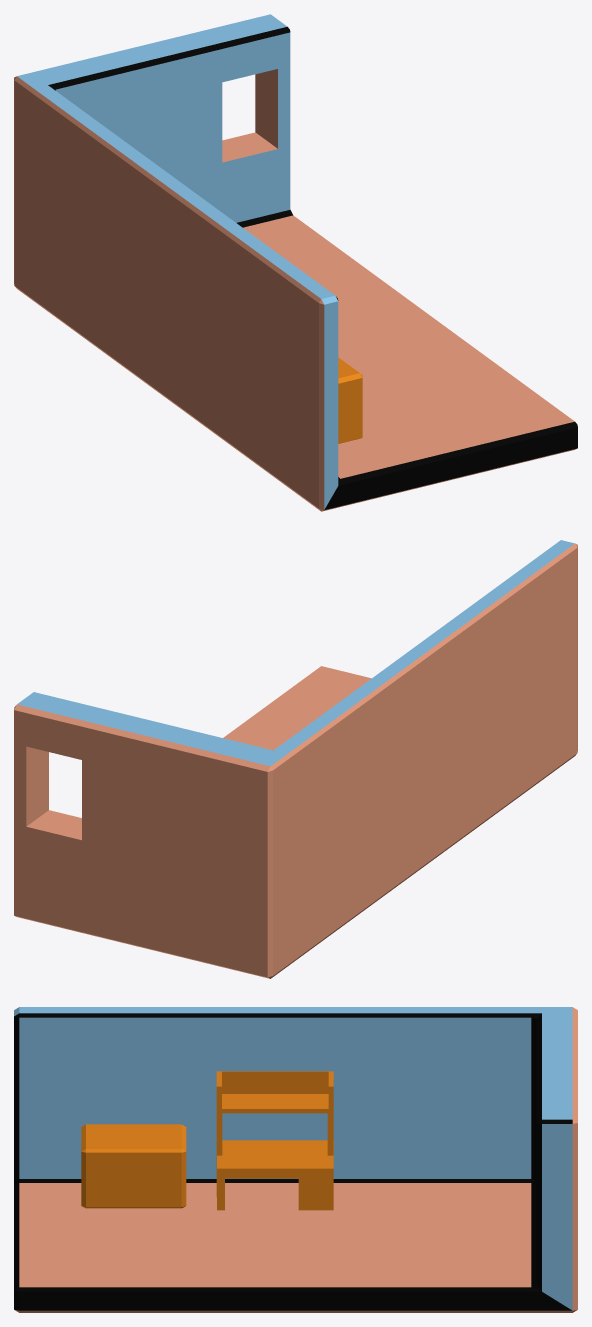
Rendered from SingleRoom.glb.
3 views of the same model, one above another, from view 1: azimuth 30°, elevation 25°; view 2: azimuth 150°, elevation 25°; view 3: azimuth 270°, elevation 25° (orthographic). The views are drawn at different scales.
Visible parts, largest first — view 1: Plane, Drawer; view 2: Plane; view 3: Plane, Table, Drawer.
Boxes of the visible parts, x1,y1,x2,y2 form: Plane: (14, 14, 577, 511); Drawer: (338, 357, 362, 443); Plane: (14, 540, 577, 978); Plane: (14, 1007, 577, 1312); Table: (216, 1071, 333, 1210); Drawer: (81, 1124, 186, 1208).
Bounding box in the file's own units: 5.16 × 4.06 × 10.73.
